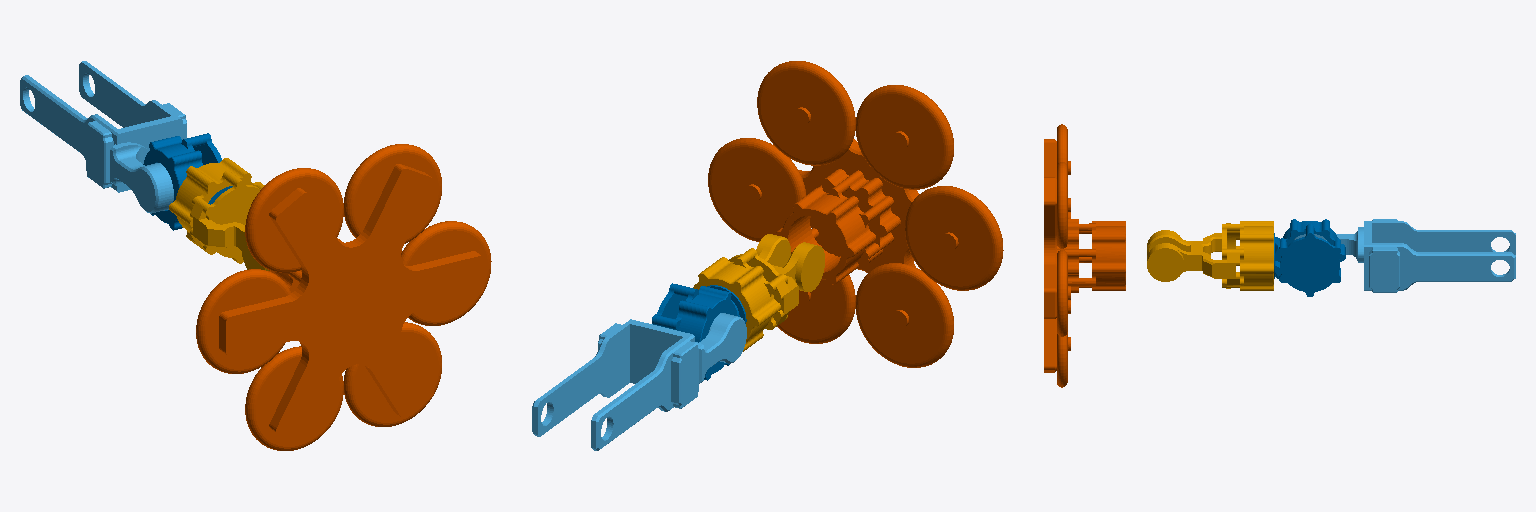
URDF robot description (dARM):
<?xml version = "1.0" ?>
<robot name = "dARM">

        <link name = "joint_2">
            <visual>
                <origin xyz = "0.038320 -0.215440 -0.000000" rpy = "0 0 0"/>
                <geometry>
                    <mesh filename = "../meshes/joint_2.stl" scale = "0.001 0.001 0.001"/>
                </geometry>
            </visual>
            <collision>
                <origin xyz = "0.038320 -0.215440 -0.000000" rpy = "0 0 0"/>
                <geometry>
                    <mesh filename = "../meshes/joint_2.stl" scale = "0.001 0.001 0.001"/>
                </geometry>
            </collision>
            <inertial>
                <origin xyz = "0.038320 -0.215440 -0.000000" rpy = "0 0 0"/>
                <mass value = "5.103367"/>
                <inertia ixx = "0.005134" ixy = "-0.000000" ixz = "-0.000000" iyy = "0.000096" iyz = "-0.000000" izz = "0.005157"/>
            </inertial>
        </link>
        
        <link name = "forearm">
            <visual>
                <origin xyz = "0.029080 -0.472080 0.000000" rpy = "0 0 0"/>
                <geometry>
                    <mesh filename = "../meshes/forearm.stl" scale = "0.001 0.001 0.001"/>
                </geometry>
            </visual>
            <collision>
                <origin xyz = "0.029080 -0.472080 0.000000" rpy = "0 0 0"/>
                <geometry>
                    <mesh filename = "../meshes/forearm.stl" scale = "0.001 0.001 0.001"/>
                </geometry>
            </collision>
            <inertial>
                <origin xyz = "0.029080 -0.472080 0.000000" rpy = "0 0 0"/>
                <mass value = "5.899486"/>
                <inertia ixx = "0.022123" ixy = "0.000349" ixz = "0.000000" iyy = "0.000157" iyz = "0.000000" izz = "0.022229"/>
            </inertial>
        </link>
        
        <link name = "gripper">
            <visual>
                <origin xyz = "0.000000 -0.831601 0.000000" rpy = "0 0 0"/>
                <geometry>
                    <mesh filename = "../meshes/gripper.stl" scale = "0.001 0.001 0.001"/>
                </geometry>
            </visual>
            <collision>
                <origin xyz = "0.000000 -0.831601 0.000000" rpy = "0 0 0"/>
                <geometry>
                    <mesh filename = "../meshes/gripper.stl" scale = "0.001 0.001 0.001"/>
                </geometry>
            </collision>
            <inertial>
                <origin xyz = "0.000000 -0.831601 0.000000" rpy = "0 0 0"/>
                <mass value = "1.795107"/>
                <inertia ixx = "0.013859" ixy = "0.000000" ixz = "-0.000000" iyy = "0.000014" iyz = "-0.000000" izz = "0.013862"/>
            </inertial>
        </link>
        
        <link name = "joint_1">
            <visual>
                <origin xyz = "0.000000 -0.146440 0.000000" rpy = "0 0 0"/>
                <geometry>
                    <mesh filename = "../meshes/joint_1.stl" scale = "0.001 0.001 0.001"/>
                </geometry>
            </visual>
            <collision>
                <origin xyz = "0.000000 -0.146440 0.000000" rpy = "0 0 0"/>
                <geometry>
                    <mesh filename = "../meshes/joint_1.stl" scale = "0.001 0.001 0.001"/>
                </geometry>
            </collision>
            <inertial>
                <origin xyz = "0.000000 -0.146440 0.000000" rpy = "0 0 0"/>
                <mass value = "7.650614"/>
                <inertia ixx = "0.003248" ixy = "-0.000000" ixz = "0.000000" iyy = "0.000399" iyz = "0.000000" izz = "0.003511"/>
            </inertial>
        </link>
        
        <link name = "joint_3">
            <visual>
                <origin xyz = "0.000000 -0.409080 -0.000000" rpy = "0 0 0"/>
                <geometry>
                    <mesh filename = "../meshes/joint_3.stl" scale = "0.001 0.001 0.001"/>
                </geometry>
            </visual>
            <collision>
                <origin xyz = "0.000000 -0.409080 -0.000000" rpy = "0 0 0"/>
                <geometry>
                    <mesh filename = "../meshes/joint_3.stl" scale = "0.001 0.001 0.001"/>
                </geometry>
            </collision>
            <inertial>
                <origin xyz = "0.000000 -0.409080 -0.000000" rpy = "0 0 0"/>
                <mass value = "2.613954"/>
                <inertia ixx = "0.005486" ixy = "-0.000028" ixz = "0.000000" iyy = "0.000042" iyz = "0.000000" izz = "0.005478"/>
            </inertial>
        </link>
        
        <link name = "base_link">
            <visual>
                <origin xyz = "0.000000 0.000000 0.000000" rpy = "0 0 0"/>
                <geometry>
                    <mesh filename = "../meshes/base_link.stl" scale = "0.001 0.001 0.001"/>
                </geometry>
            </visual>
            <collision>
                <origin xyz = "0.000000 0.000000 0.000000" rpy = "0 0 0"/>
                <geometry>
                    <mesh filename = "../meshes/base_link.stl" scale = "0.001 0.001 0.001"/>
                </geometry>
            </collision>
            <inertial>
                <origin xyz = "0.000000 0.000000 0.000000" rpy = "0 0 0"/>
                <mass value = "33.316480"/>
                <inertia ixx = "0.003712" ixy = "0.000000" ixz = "0.000000" iyy = "0.006406" iyz = "0.000000" izz = "0.003712"/>
            </inertial>
        </link>
        
        <link name = "differential">
            <visual>
                <origin xyz = "0.041776 -0.809901 0.000000" rpy = "0 0 0"/>
                <geometry>
                    <mesh filename = "../meshes/differential.stl" scale = "0.001 0.001 0.001"/>
                </geometry>
            </visual>
            <collision>
                <origin xyz = "0.041776 -0.809901 0.000000" rpy = "0 0 0"/>
                <geometry>
                    <mesh filename = "../meshes/differential.stl" scale = "0.001 0.001 0.001"/>
                </geometry>
            </collision>
            <inertial>
                <origin xyz = "0.041776 -0.809901 0.000000" rpy = "0 0 0"/>
                <mass value = "1.003741"/>
                <inertia ixx = "0.006597" ixy = "0.000000" ixz = "-0.000000" iyy = "0.000012" iyz = "0.000000" izz = "0.006607"/>
            </inertial>
        </link>
        
        <link name = "finger_1">
            <visual>
                <origin xyz = "-0.050000 -0.919071 -0.003500" rpy = "0 0 0"/>
                <geometry>
                    <mesh filename = "../meshes/finger_1.stl" scale = "0.001 0.001 0.001"/>
                </geometry>
            </visual>
            <collision>
                <origin xyz = "-0.050000 -0.919071 -0.003500" rpy = "0 0 0"/>
                <geometry>
                    <mesh filename = "../meshes/finger_1.stl" scale = "0.001 0.001 0.001"/>
                </geometry>
            </collision>
            <inertial>
                <origin xyz = "-0.050000 -0.919071 -0.003500" rpy = "0 0 0"/>
                <mass value = "0.268584"/>
                <inertia ixx = "0.002366" ixy = "-0.000026" ixz = "-0.000000" iyy = "0.000001" iyz = "0.000002" izz = "0.002366"/>
            </inertial>
        </link>
        
        <link name = "finger_2">
            <visual>
                <origin xyz = "-0.050000 -0.919071 -0.003500" rpy = "0 0 0"/>
                <geometry>
                    <mesh filename = "../meshes/finger_2.stl" scale = "0.001 0.001 0.001"/>
                </geometry>
            </visual>
            <collision>
                <origin xyz = "-0.050000 -0.919071 -0.003500" rpy = "0 0 0"/>
                <geometry>
                    <mesh filename = "../meshes/finger_2.stl" scale = "0.001 0.001 0.001"/>
                </geometry>
            </collision>
            <inertial>
                <origin xyz = "-0.050000 -0.919071 -0.003500" rpy = "0 0 0"/>
                <mass value = "0.268584"/>
                <inertia ixx = "0.002366" ixy = "0.000026" ixz = "-0.000000" iyy = "0.000001" iyz = "-0.000002" izz = "0.002366"/>
            </inertial>
        </link>
        
        <joint name = "Revolute 10" type = "continuous">
            <origin xyz = "-0.000000 0.146440 -0.000000" rpy = "0 0 0"/>
            <parent link = "base_link"/>
            <child link = "joint_1"/>
            <axis xyz = "-0.000000 1.000000 -0.000000"/>
        </joint>
        
        <joint name = "Revolute 11" type = "continuous">
            <origin xyz = "-0.038320 0.069000 0.000000" rpy = "0 0 0"/>
            <parent link = "joint_1"/>
            <child link = "joint_2"/>
            <axis xyz = "-1.000000 0.000000 -0.000000"/>
        </joint>
        
        <joint name = "Revolute 12" type = "continuous">
            <origin xyz = "0.038320 0.193640 -0.000000" rpy = "0 0 0"/>
            <parent link = "joint_2"/>
            <child link = "joint_3"/>
            <axis xyz = "-0.000000 1.000000 -0.000000"/>
        </joint>
        
        <joint name = "Revolute 13" type = "continuous">
            <origin xyz = "-0.029080 0.063000 -0.000000" rpy = "0 0 0"/>
            <parent link = "joint_3"/>
            <child link = "forearm"/>
            <axis xyz = "-1.000000 -0.000000 -0.000000"/>
        </joint>
        
        <joint name = "Revolute 14" type = "continuous">
            <origin xyz = "-0.012696 0.337821 -0.000000" rpy = "0 0 0"/>
            <parent link = "forearm"/>
            <child link = "differential"/>
            <axis xyz = "1.000000 0.000000 0.000000"/>
        </joint>
        
        <joint name = "Revolute 15" type = "continuous">
            <origin xyz = "0.041776 0.021700 0.000000" rpy = "0 0 0"/>
            <parent link = "differential"/>
            <child link = "gripper"/>
            <axis xyz = "0.000000 -1.000000 0.000000"/>
        </joint>
        
        <joint name = "Slider 16" type = "prismatic">
            <origin xyz = "0.050000 0.087470 0.003500" rpy = "0 0 0"/>
            <parent link = "gripper"/>
            <child link = "finger_1"/>
            <axis xyz = "1.000000 0.000000 0.000000"/>
            <limit lower = "0.000000" upper = "0.000000"/>
        </joint>
        
        <joint name = "Slider 17" type = "prismatic">
            <origin xyz = "0.000000 0.000000 0.000000" rpy = "0 0 0"/>
            <parent link = "gripper"/>
            <child link = "finger_2"/>
            <axis xyz = "1.000000 0.000000 0.000000"/>
            <limit lower = "0.000000" upper = "0.000000"/>
        </joint>
        
</robot>

--- Render facts (derived) ---
Views: 3 orthographic renders of the robot side by side, from view 1: azimuth 30°, elevation 25°; view 2: azimuth 150°, elevation 25°; view 3: azimuth 270°, elevation 25°.
Model dARM with 9 links and 8 joints (6 continuous, 2 prismatic), rooted at base_link, posed all joints at 0.
Links seen in each view (by area): view 1: base_link, forearm, joint_2, joint_3; view 2: base_link, forearm, joint_2, joint_3; view 3: base_link, forearm, joint_2, joint_3.
Boxes of the visible links, x1,y1,x2,y2 form: base_link: (196,144,491,450); forearm: (20,61,186,213); joint_2: (169,158,269,270); joint_3: (143,133,232,230); base_link: (708,61,1003,367); forearm: (532,313,746,450); joint_2: (693,234,824,351); joint_3: (652,283,746,380); base_link: (1044,124,1125,387); forearm: (1294,219,1515,292); joint_2: (1147,221,1273,290); joint_3: (1274,219,1345,296).
Bounding box of the posed robot: 0.4687 × 0.8369 × 0.4267 m (x, y, z).
Meshes: 9 distinct files referenced, 4 mesh visuals loaded (4 binary STL); not drawn: 5 (reference not matched to a file when rendering).